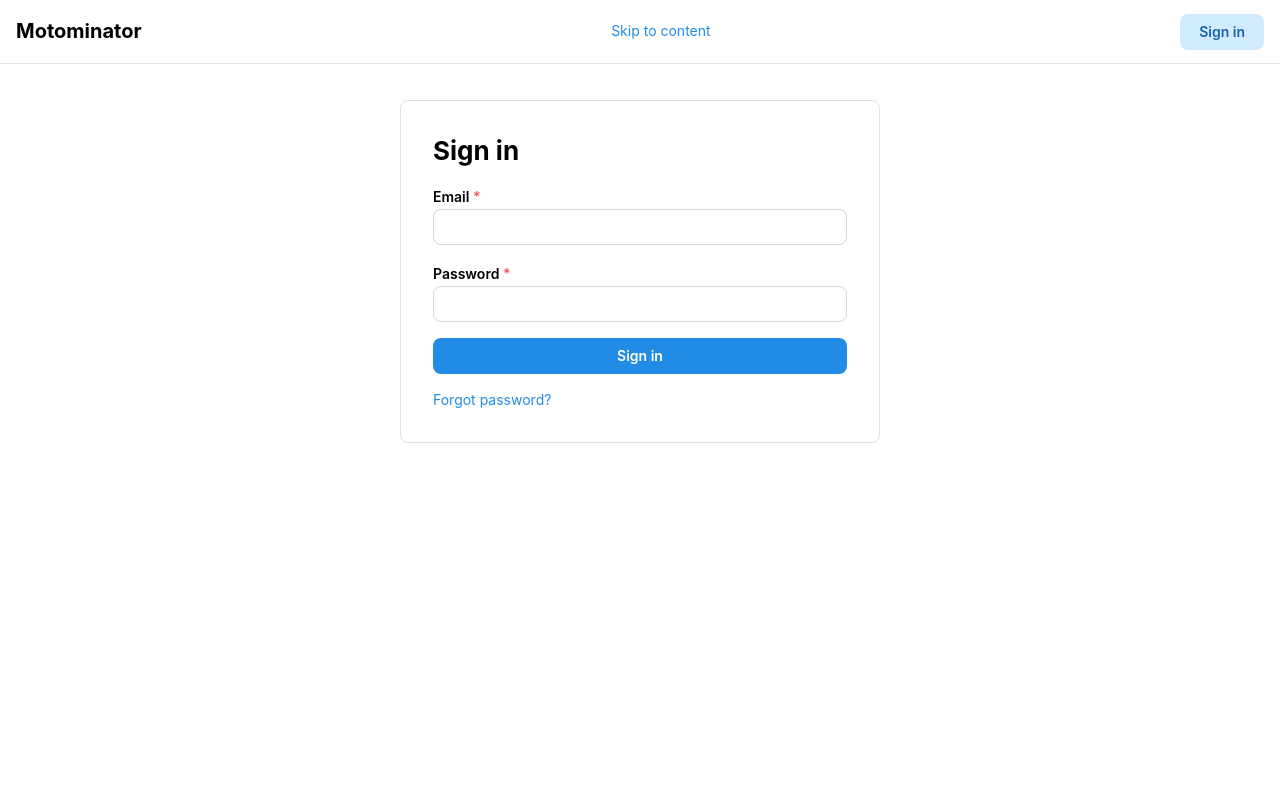
Test: browser authentication › requires the two-factor challenge before showing the account
Expected: the heading "Sign in" is shown, [433,135,519,166]
Submit the form "Sign in", box [433,184,847,374]
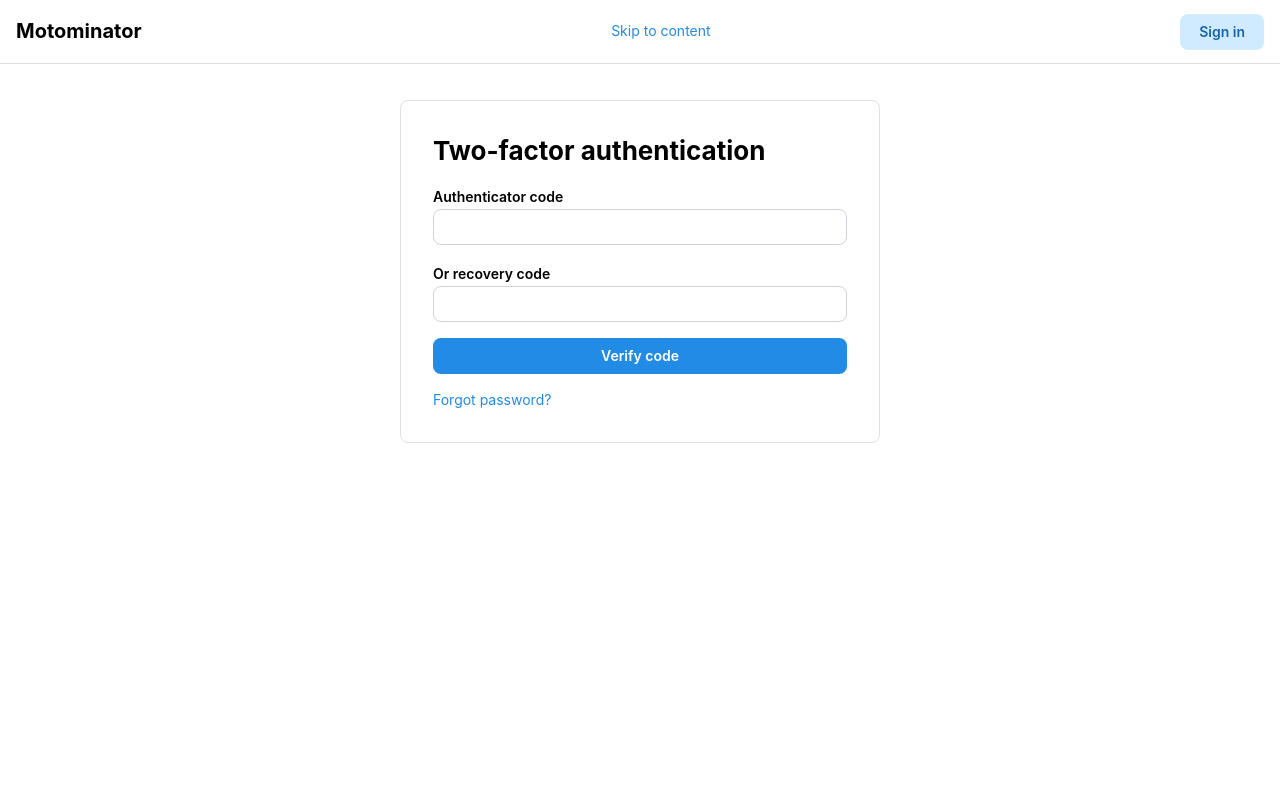
Expected: the text "Welcome, Rider" is not shown
Result: the heading "Two-factor authentication" is shown at [433,135,765,166]
Type "recovery-code" into the field labelled "Or recovery code" at (640, 304), box [433,286,847,322]
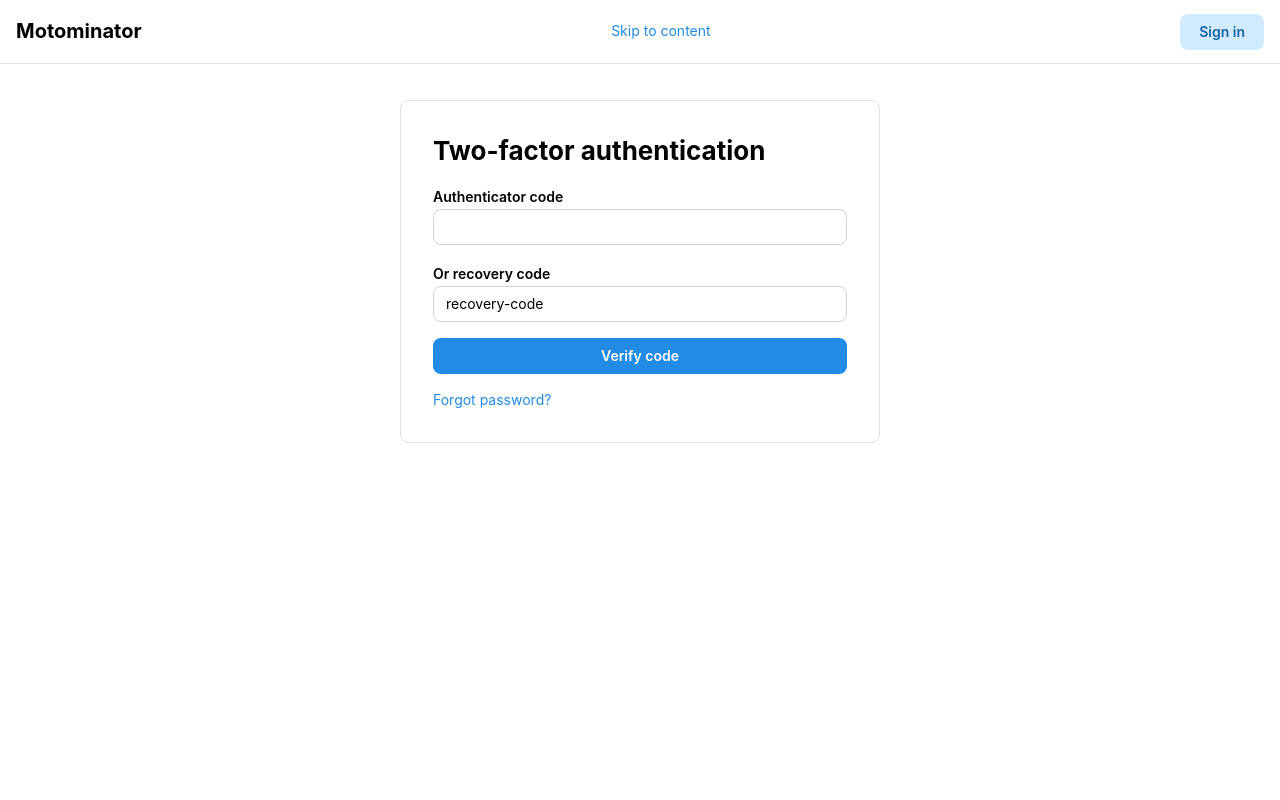
Click the button "Verify code" at (640, 356), box [433,338,847,374]
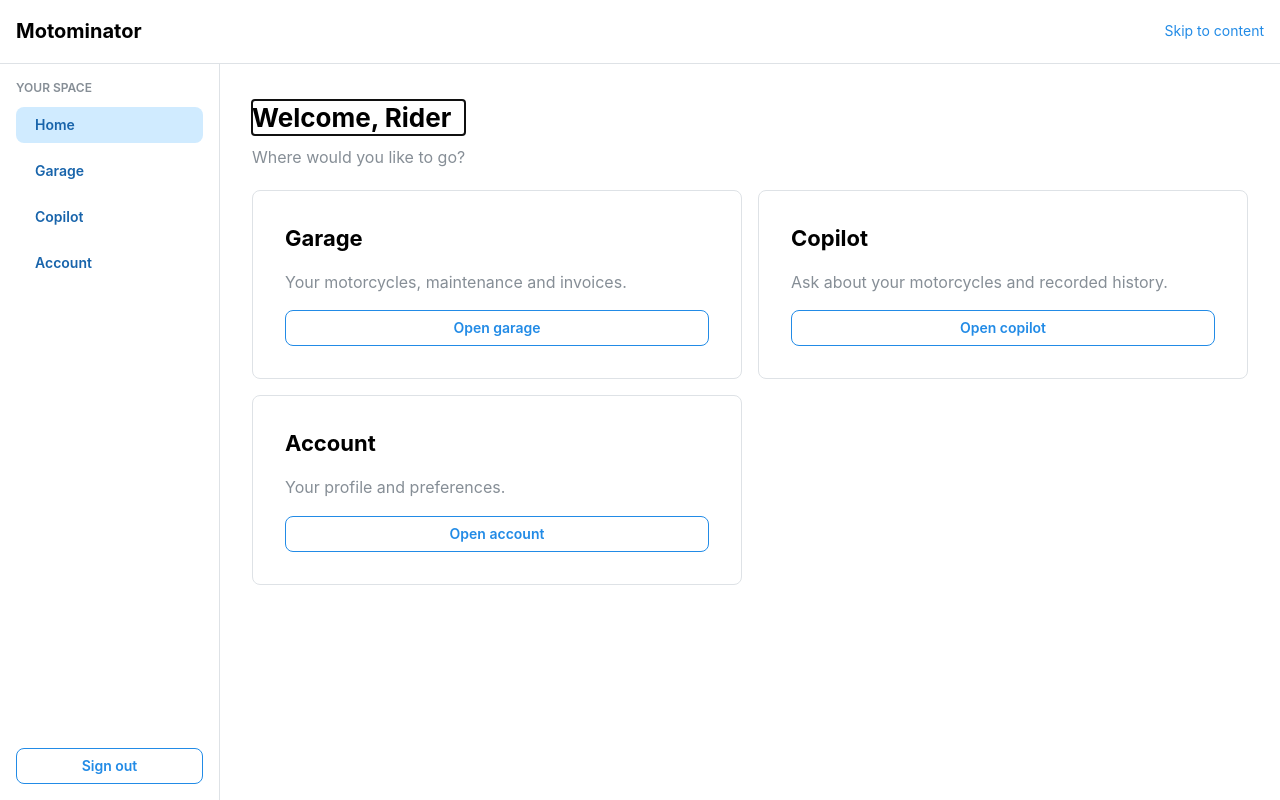
Result: the heading "Welcome, Rider" is shown at [252,100,465,135]
